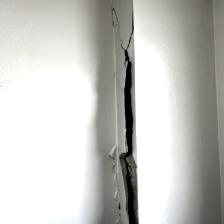High: (98, 1, 155, 224)
